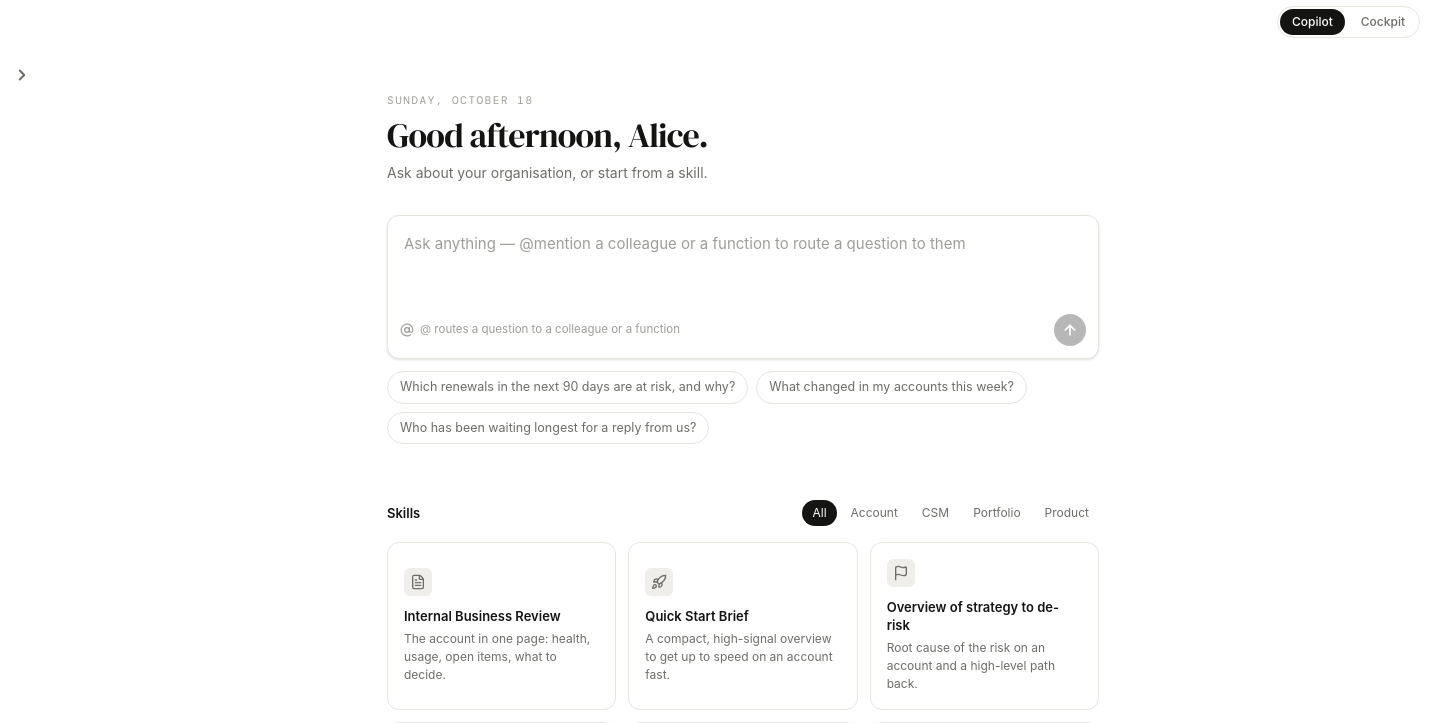
Test: Copilot (/copilot) › sending a message POSTs to /copilot/messages/ and renders the real assistant reply
In the text box with placeholder "Ask anything — @mention a colleague or a function to route a question to them": (743, 262) top-left (388, 216), bottom-right (1098, 308), type "What's my churn risk?"
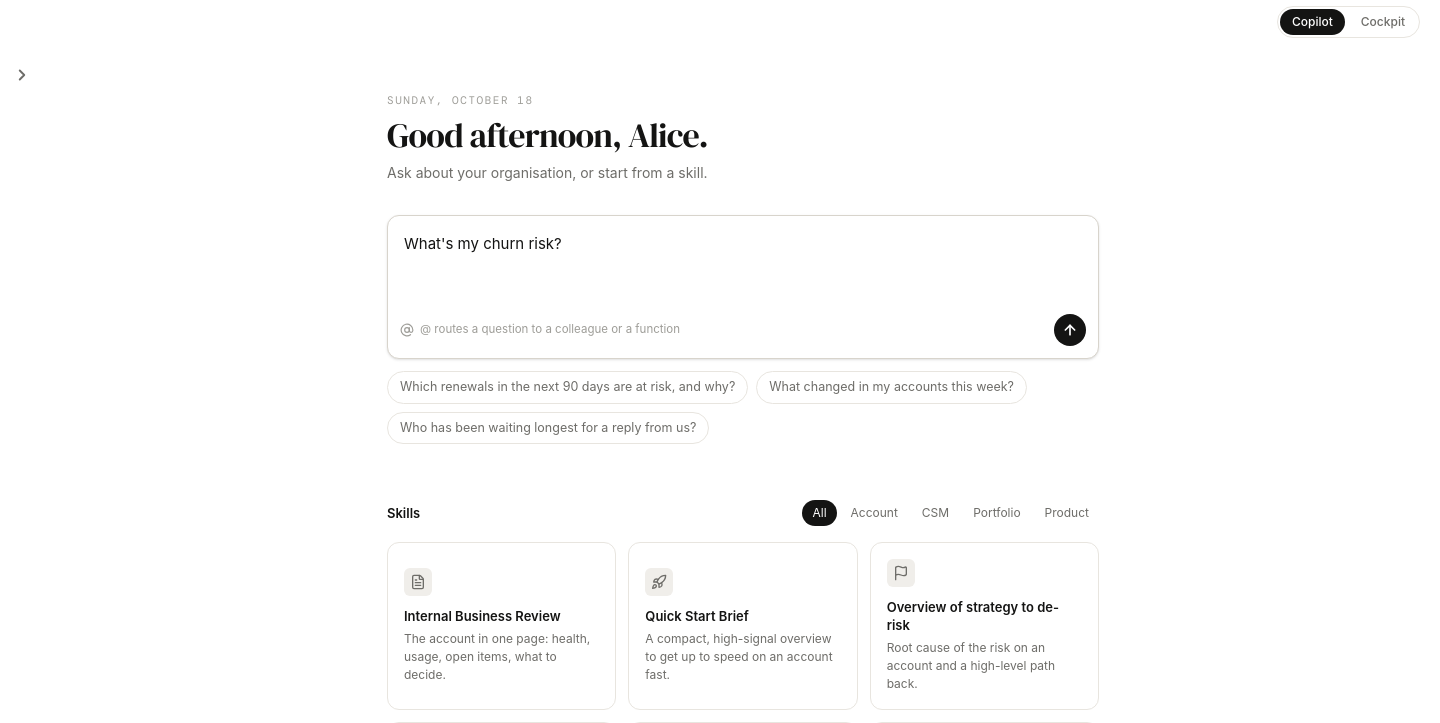
Press Enter
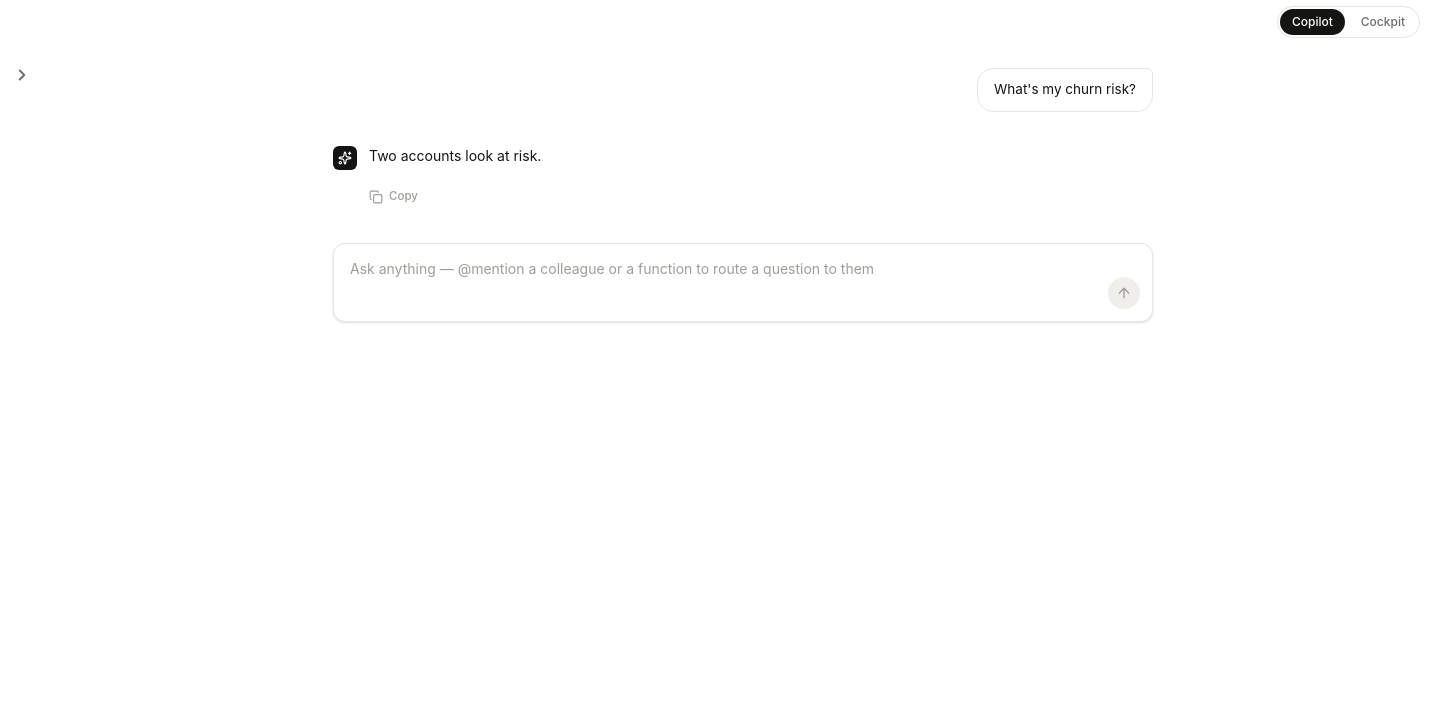
Now the text "Two accounts look at risk." is shown, box top-left (369, 147), bottom-right (541, 164)
